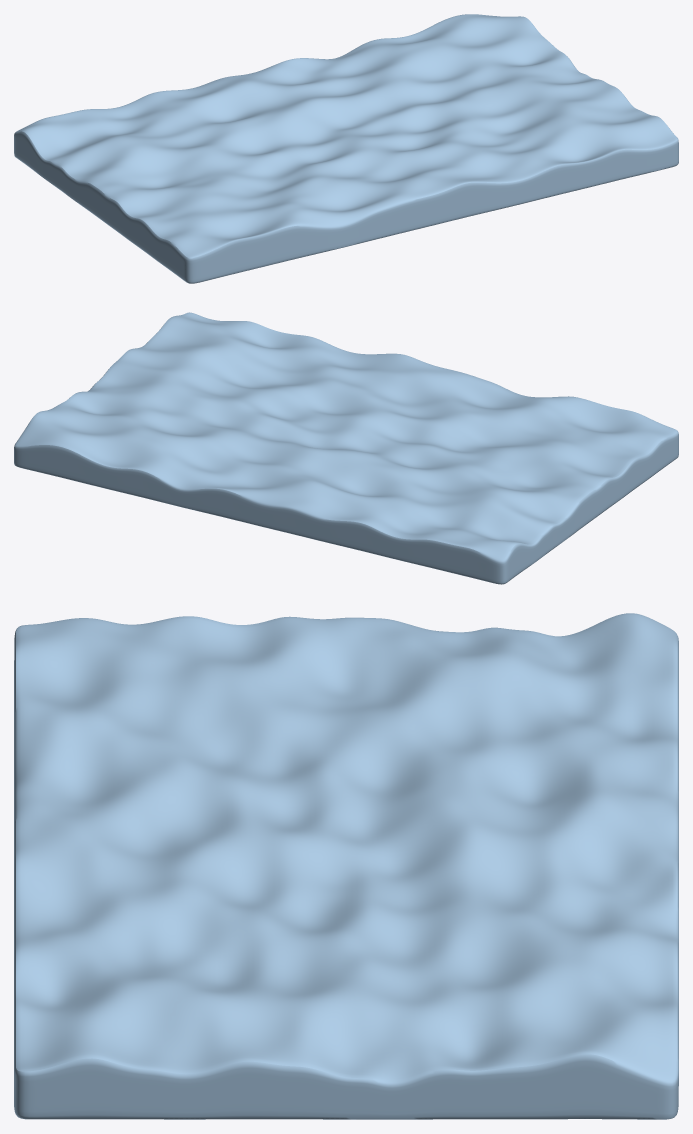
The model's file is eau_test.fbx.
3 renders of one model, top to bottom at view 1: azimuth 30°, elevation 25°; view 2: azimuth 150°, elevation 25°; view 3: azimuth 270°, elevation 25°, orthographic. The views are drawn at different scales.
Parts seen in each view (by area): view 1: Plane; view 2: Plane; view 3: Plane.
Boxes of the visible parts, x1=… form: Plane: x1=14, y1=14, x2=678, y2=283; Plane: x1=14, y1=312, x2=678, y2=584; Plane: x1=14, y1=613, x2=678, y2=1119.
Size of the model in its own units: 960 by 69.2 by 601.
